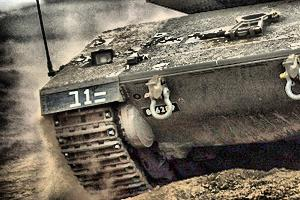tanks: (41, 1, 300, 199)
